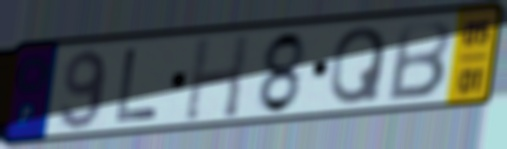8: (256, 26, 309, 117)
9: (56, 47, 109, 132)
B: (383, 18, 454, 104)
H: (181, 31, 253, 123)
L: (112, 46, 162, 126)
Q: (327, 24, 391, 108)
